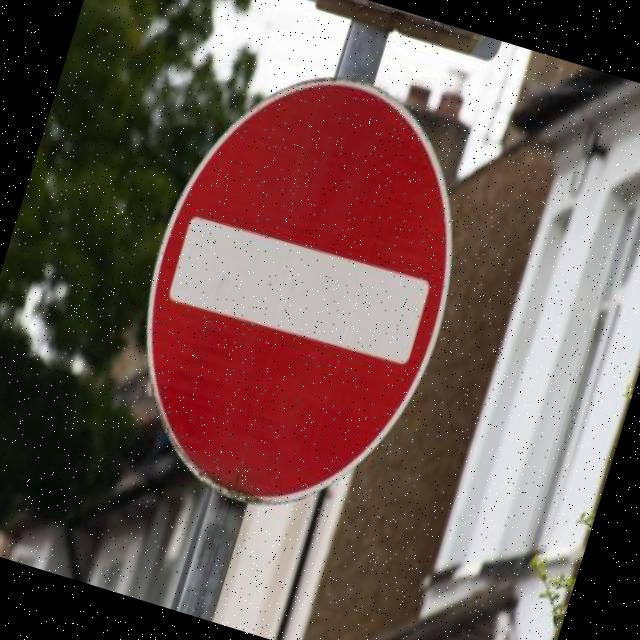do_not_enter: (76, 27, 505, 563)
